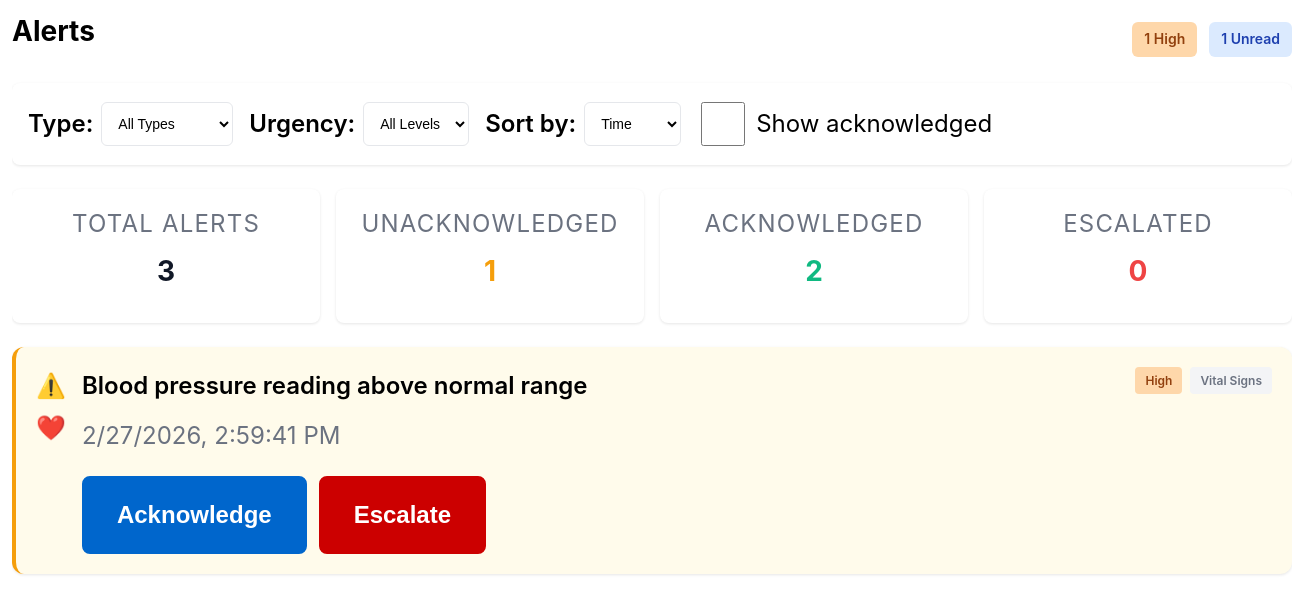
Test: AlertsPanelWidget › Alert Escalation › should show escalated status for escalated alerts
Expected: the text "Blood pressure reading above normal range" is shown, x1=82 y1=367 x2=588 y2=405
Escalate an alert first
Click the button "Escalate" at (402,514), box x1=319 y1=476 x2=486 y2=554
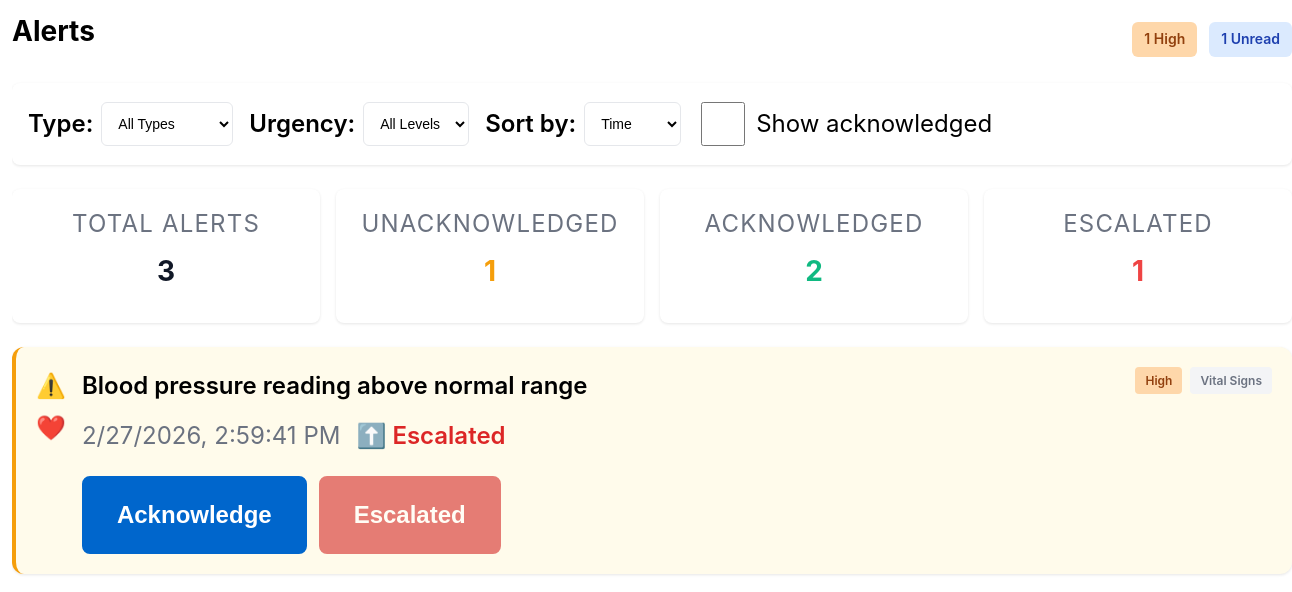
Now the text "⬆️ Escalated" is shown, box x1=356 y1=417 x2=506 y2=456
